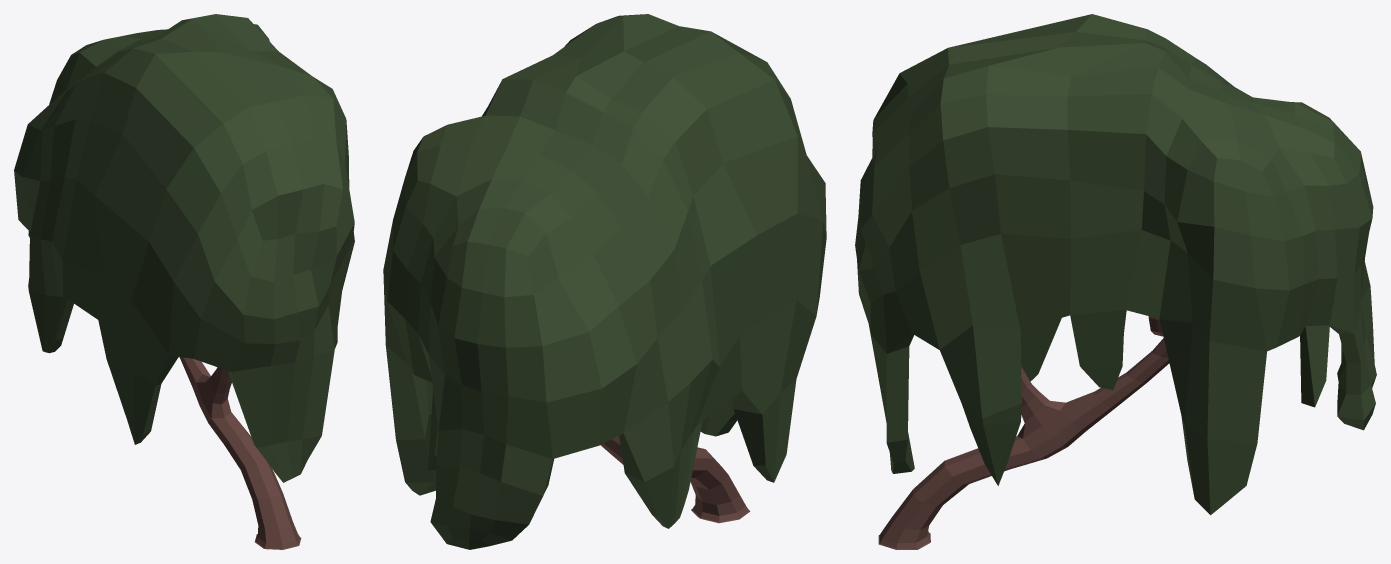
File: Willow_2.gltf
The picture shows the model from 3 angles, left to right: view 1: azimuth 30°, elevation 25°; view 2: azimuth 150°, elevation 25°; view 3: azimuth 270°, elevation 25°; orthographic projection. The views are drawn at different scales.
Parts seen in each view (by area): view 1: Willow_2; view 2: Willow_2; view 3: Willow_2.
Boxes of the visible parts, x1=… form: Willow_2: x1=14, y1=14, x2=354, y2=549; Willow_2: x1=383, y1=14, x2=826, y2=549; Willow_2: x1=855, y1=14, x2=1376, y2=549.
Bounding box in the file's own units: 1.95 × 3.32 × 3.11.
